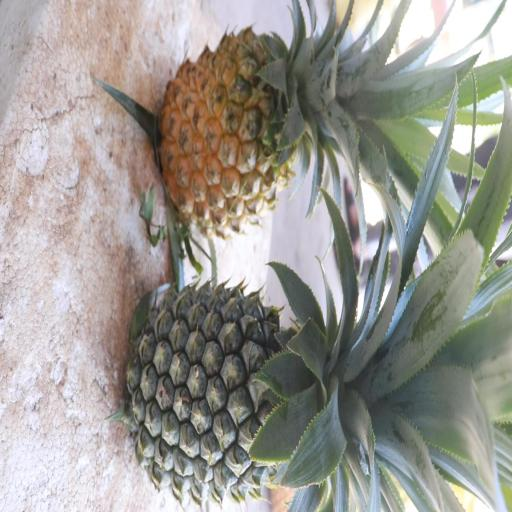Pineapple - v8 v1: (150, 23, 425, 236)
